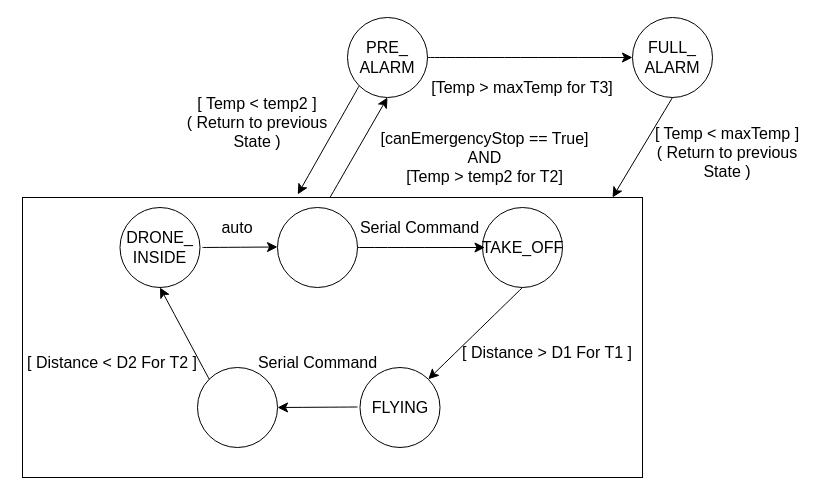
Some shapes in this 819 by 495 pixel diagram are drawn without their labels. Each missing label, with the centre of its shape:
IDLE: (317,247)
LANDING: (237,407)
